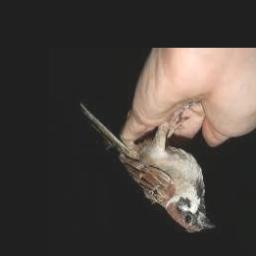Sparrow: (80, 105, 216, 235)
